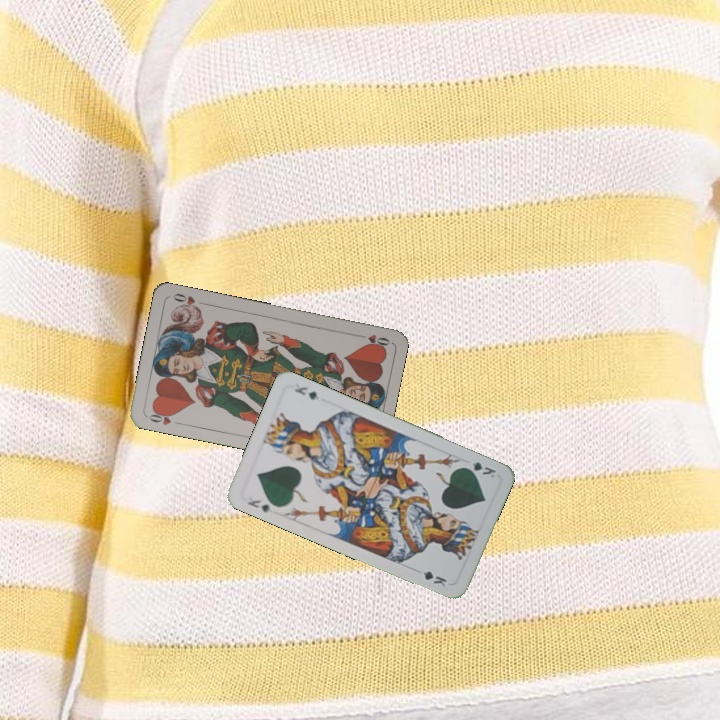GK: (459, 458, 499, 480), (244, 496, 272, 515)
HO: (352, 330, 392, 350), (145, 406, 177, 428)
